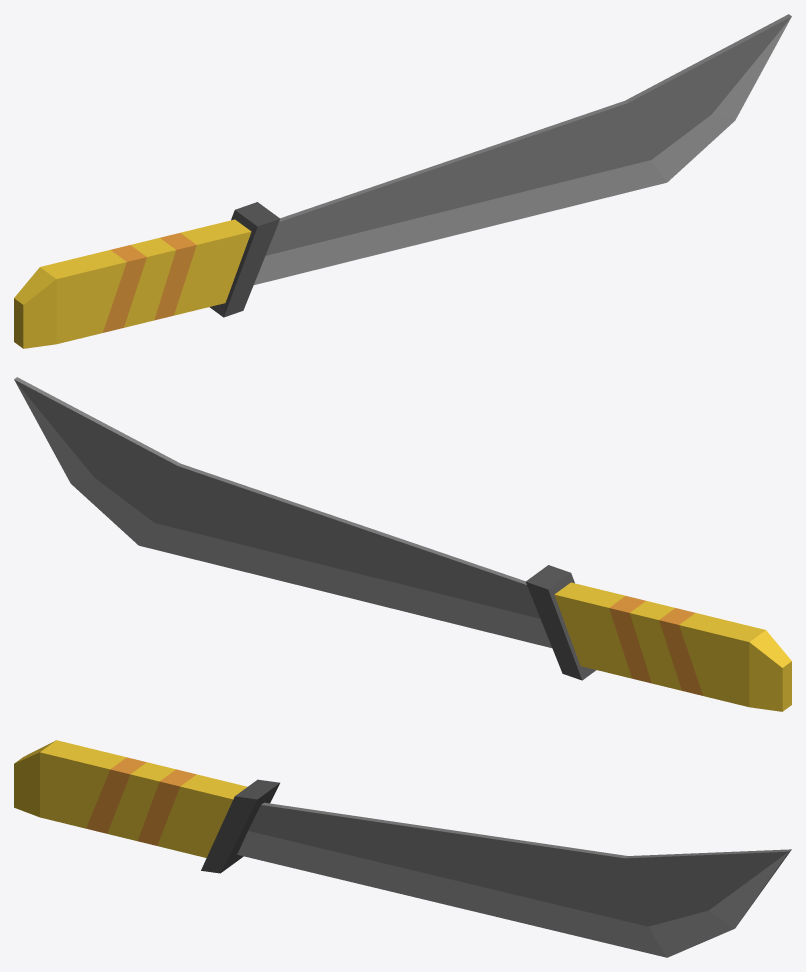
The model's file is BroadSword.fbx.
3 renders of one model, top to bottom at view 1: azimuth 30°, elevation 25°; view 2: azimuth 150°, elevation 25°; view 3: azimuth 330°, elevation 25°, orthographic.
Parts seen in each view (by area): view 1: BroadSword; view 2: BroadSword; view 3: BroadSword.
Part boxes in pixels (x1,y1,x2,y2): BroadSword: (14, 14, 791, 348); BroadSword: (14, 377, 791, 711); BroadSword: (14, 740, 791, 957).
Size of the model in its own units: 214 by 40.44 by 10.97.
